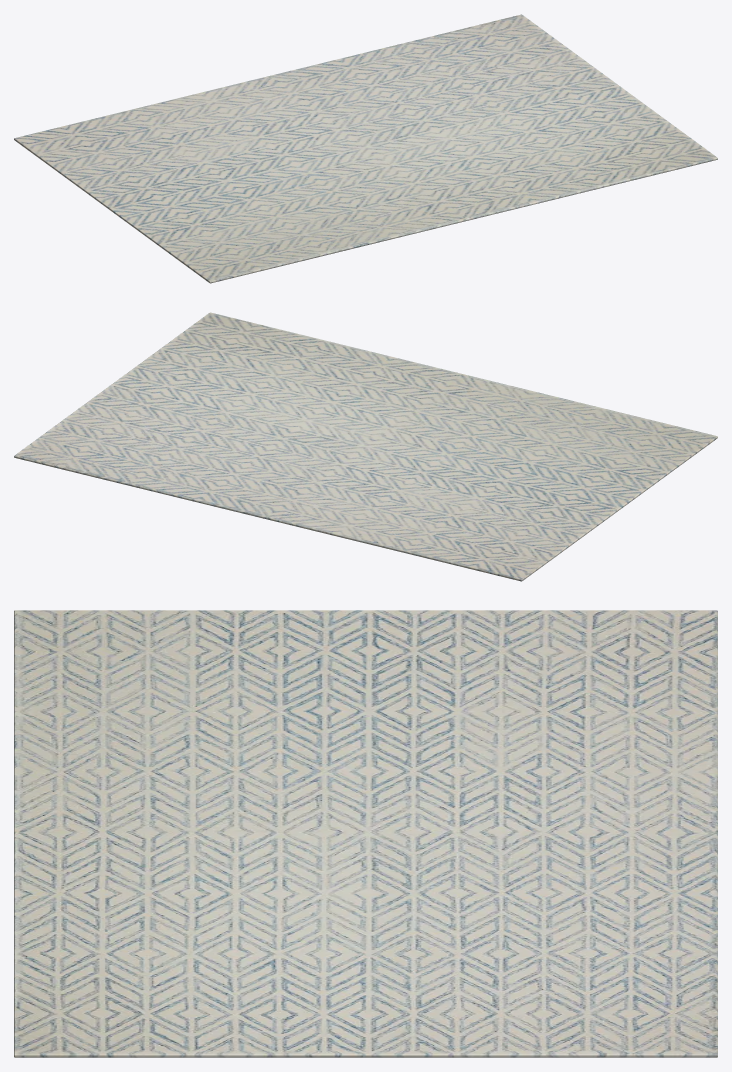
File: rug_abo_B0735W9DMT.glb
3 renders of one model, top to bottom at view 1: azimuth 30°, elevation 25°; view 2: azimuth 150°, elevation 25°; view 3: azimuth 270°, elevation 25°, orthographic. The views are drawn at different scales.
Parts seen in each view (by area): view 1: RootNode; view 2: RootNode; view 3: RootNode.
Part boxes in pixels (<box>): RootNode: <box>14,14,717,283</box>; RootNode: <box>14,312,717,581</box>; RootNode: <box>14,610,717,1057</box>.
Size of the model in its own units: 1.82 by 0.00757 by 1.22.
1 material, 1 textured.
